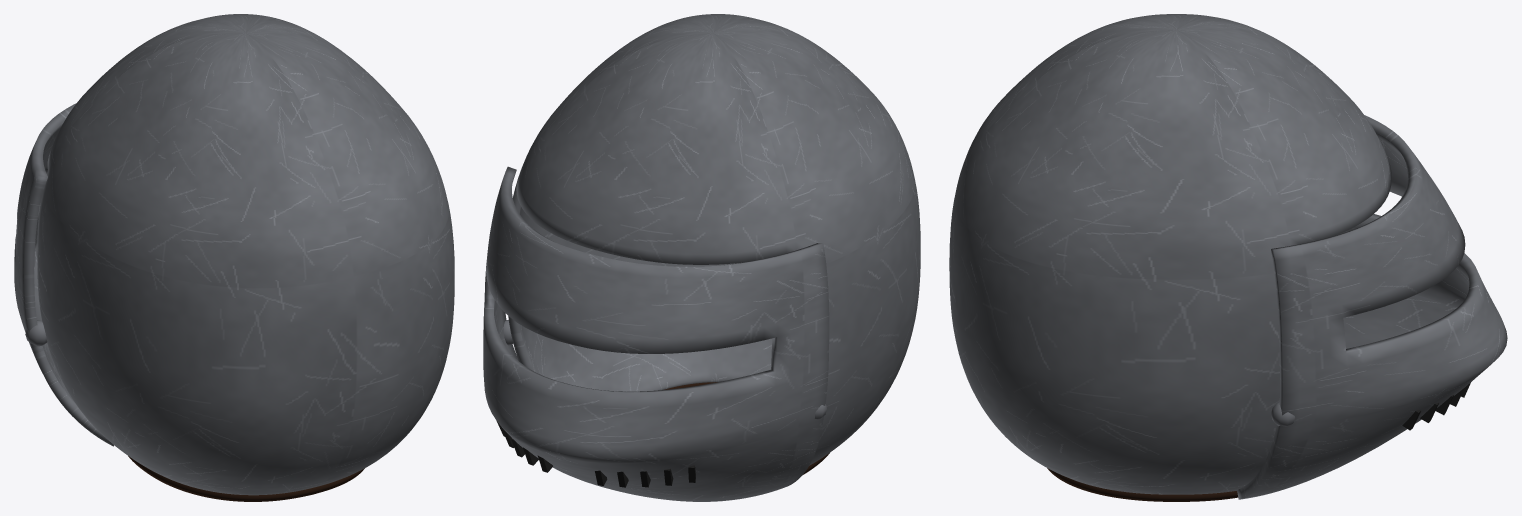
Rendered from casco_caballero.glb.
3 views of the same model, side by side, from view 1: azimuth 30°, elevation 25°; view 2: azimuth 150°, elevation 25°; view 3: azimuth 270°, elevation 25° (orthographic). The views are drawn at different scales.
Visible parts, largest first — view 1: Casco_caballero; view 2: Casco_caballero; view 3: Casco_caballero.
Boxes of the visible parts, box(x1,y1,x2,y2) form: Casco_caballero: box(14, 14, 454, 501); Casco_caballero: box(483, 14, 920, 501); Casco_caballero: box(949, 14, 1507, 501).
Bounding box in the file's own units: 0.24 × 0.2784 × 0.3342.
3 materials, 2 textured.
